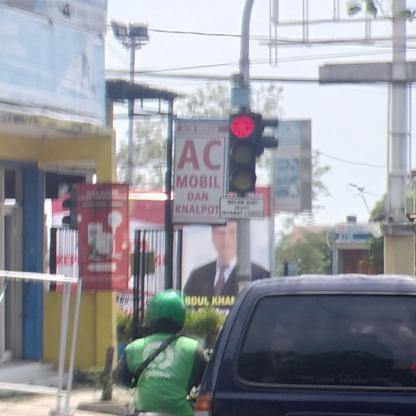red: (228, 115, 258, 196)
